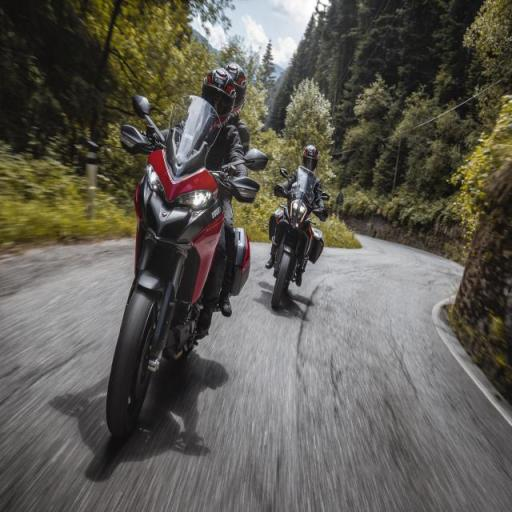Helmet: (196, 60, 246, 128), (295, 136, 323, 180)
Motor: (84, 126, 242, 448), (268, 168, 318, 309)
